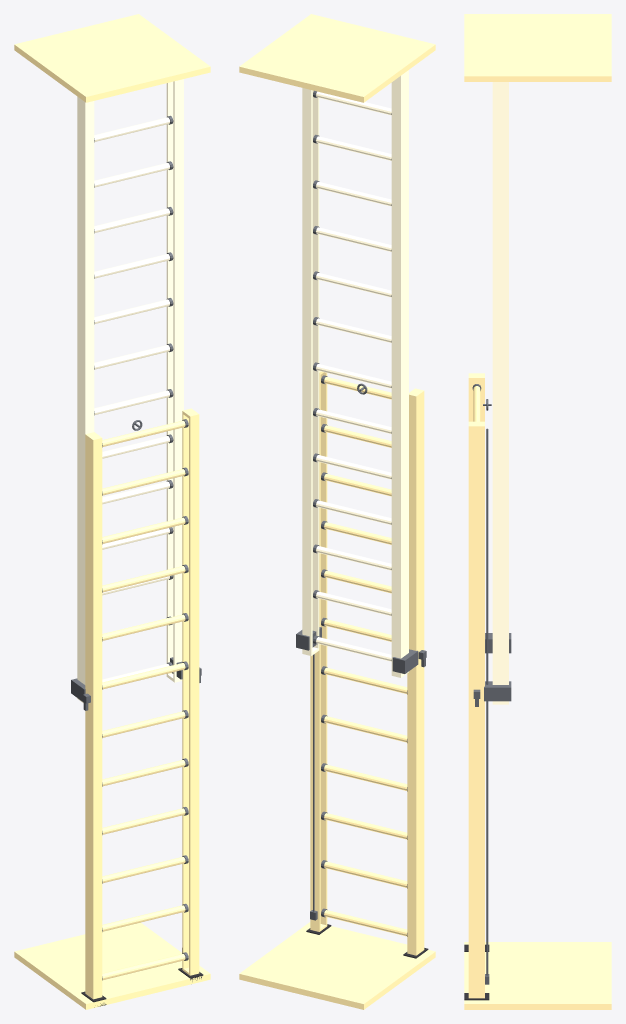
File: ladder_large.glb
3 views of the same model, side by side, from view 1: azimuth 30°, elevation 25°; view 2: azimuth 150°, elevation 25°; view 3: azimuth 270°, elevation 25° (orthographic). The views are drawn at different scales.
Visible parts, largest first — view 1: LadderLarge_Top-convcol, LadderLarge_Foot-convcol, LadderLarge_BaseR_Front, LadderLarge_FlyR_Front, LadderLarge_BaseL_Web-convcol, LadderLarge_BaseL_Front, LadderLarge_FlyL_Web-convcol, LadderLarge_FlyR_Back, LadderLarge_FlyL_Front, LadderLarge_BaseR_Back, LadderLarge_BaseL_Back, LadderLarge_FlyL_Back (+22 smaller); view 2: LadderLarge_Top-convcol, LadderLarge_Foot-convcol, LadderLarge_FlyL_Back, LadderLarge_FlyR_Back, LadderLarge_BaseL_Web-convcol, LadderLarge_BaseL_Back, LadderLarge_FlyL_Web-convcol, LadderLarge_FlyR_Front, LadderLarge_BaseR_Front, LadderLarge_BaseR_Back, LadderLarge_FlyL_Front, LadderLarge_FlyR_Web-convcol (+28 smaller); view 3: LadderLarge_Top-convcol, LadderLarge_FlyR_Web-convcol, LadderLarge_Foot-convcol, LadderLarge_BaseR_Web-convcol, LadderLarge_BaseR_Front, LadderLarge_FlyR_Front, LadderLarge_BaseR_Back, LadderLarge_FlyR_Back, LadderLarge_Rope, LadderLarge_GuideR.
Part boxes in pixels (<box>): LadderLarge_Top-convcol: <box>14,14,210,102</box>; LadderLarge_Foot-convcol: <box>14,922,210,1009</box>; LadderLarge_BaseR_Front: <box>189,413,199,975</box>; LadderLarge_FlyR_Front: <box>173,79,183,681</box>; LadderLarge_BaseL_Web-convcol: <box>85,434,95,998</box>; LadderLarge_BaseL_Front: <box>92,437,102,999</box>; LadderLarge_FlyL_Web-convcol: <box>77,97,87,702</box>; LadderLarge_FlyR_Back: <box>166,81,173,676</box>; LadderLarge_FlyL_Front: <box>84,101,94,681</box>; LadderLarge_BaseR_Back: <box>182,408,191,970</box>; LadderLarge_BaseL_Back: <box>85,432,95,993</box>; LadderLarge_FlyL_Back: <box>77,97,78,698</box>; LadderLarge_Top-convcol: <box>239,14,435,102</box>; LadderLarge_Foot-convcol: <box>239,922,435,1009</box>; LadderLarge_FlyL_Back: <box>391,75,402,677</box>; LadderLarge_FlyR_Back: <box>302,88,312,655</box>; LadderLarge_BaseL_Web-convcol: <box>414,391,424,952</box>; LadderLarge_BaseL_Back: <box>407,393,417,954</box>; LadderLarge_FlyL_Web-convcol: <box>398,71,408,677</box>; LadderLarge_FlyR_Front: <box>312,90,319,650</box>; LadderLarge_BaseR_Front: <box>320,372,327,925</box>; LadderLarge_BaseR_Back: <box>310,371,320,931</box>; LadderLarge_FlyL_Front: <box>407,70,408,653</box>; LadderLarge_FlyR_Web-convcol: <box>302,88,304,653</box>; LadderLarge_Top-convcol: <box>464,14,611,81</box>; LadderLarge_FlyR_Web-convcol: <box>492,82,508,701</box>; LadderLarge_Foot-convcol: <box>464,942,611,1009</box>; LadderLarge_BaseR_Web-convcol: <box>469,425,484,996</box>; LadderLarge_BaseR_Front: <box>468,422,471,998</box>; LadderLarge_FlyR_Front: <box>492,82,495,684</box>; LadderLarge_BaseR_Back: <box>482,421,484,998</box>; LadderLarge_FlyR_Back: <box>506,82,508,701</box>; LadderLarge_Rope: <box>486,428,488,975</box>; LadderLarge_GuideR: <box>484,681,511,701</box>.
Size of the model in its own units: 1.35 by 9.45 by 1.35.
